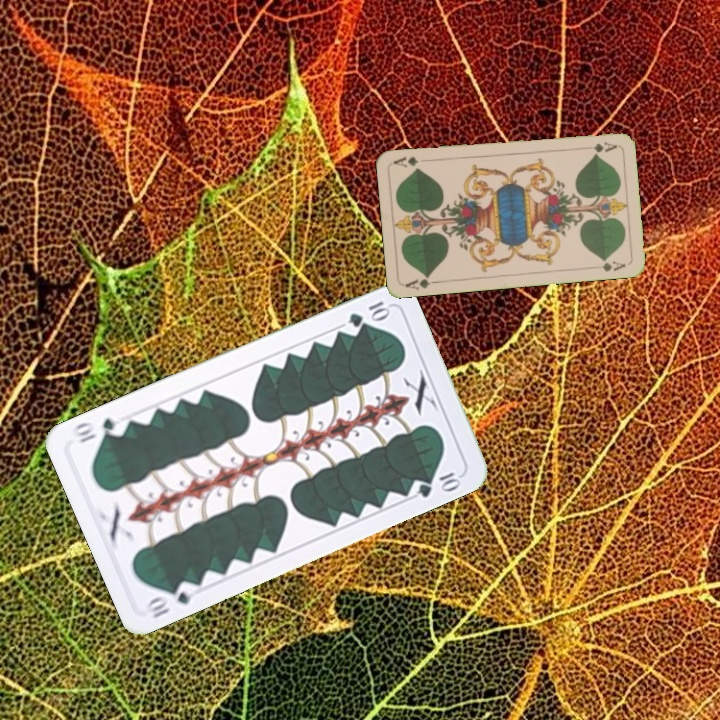G10: (143, 577, 201, 622), (344, 297, 394, 330)
GA: (401, 271, 442, 292), (578, 137, 619, 155)
